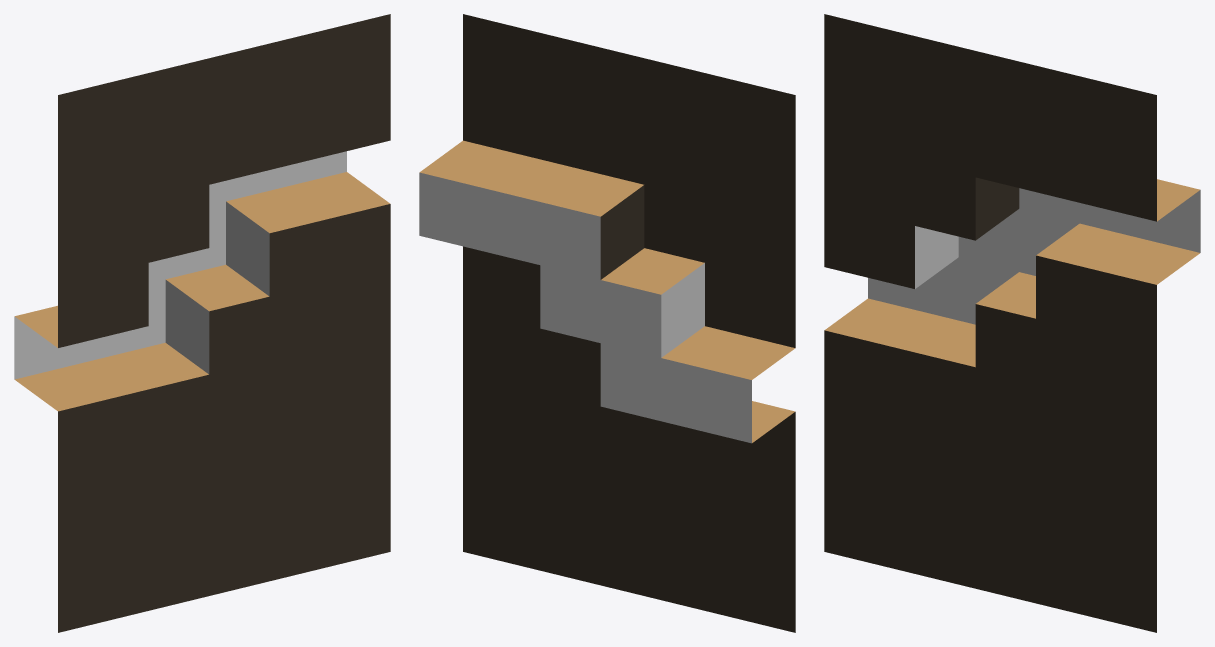
File: Corridor-004.fbx
3 renders of one model, left to right at view 1: azimuth 30°, elevation 25°; view 2: azimuth 150°, elevation 25°; view 3: azimuth 330°, elevation 25°, orthographic.
Parts seen in each view (by area): view 1: Corridor.003; view 2: Corridor.003; view 3: Corridor.003.
Part boxes in pixels (left/top/right/bottom): Corridor.003: left=14, top=14, right=390, bottom=632; Corridor.003: left=419, top=14, right=795, bottom=632; Corridor.003: left=824, top=14, right=1200, bottom=632.
Bounding box in the file's own units: 2200 × 3400 × 500.
